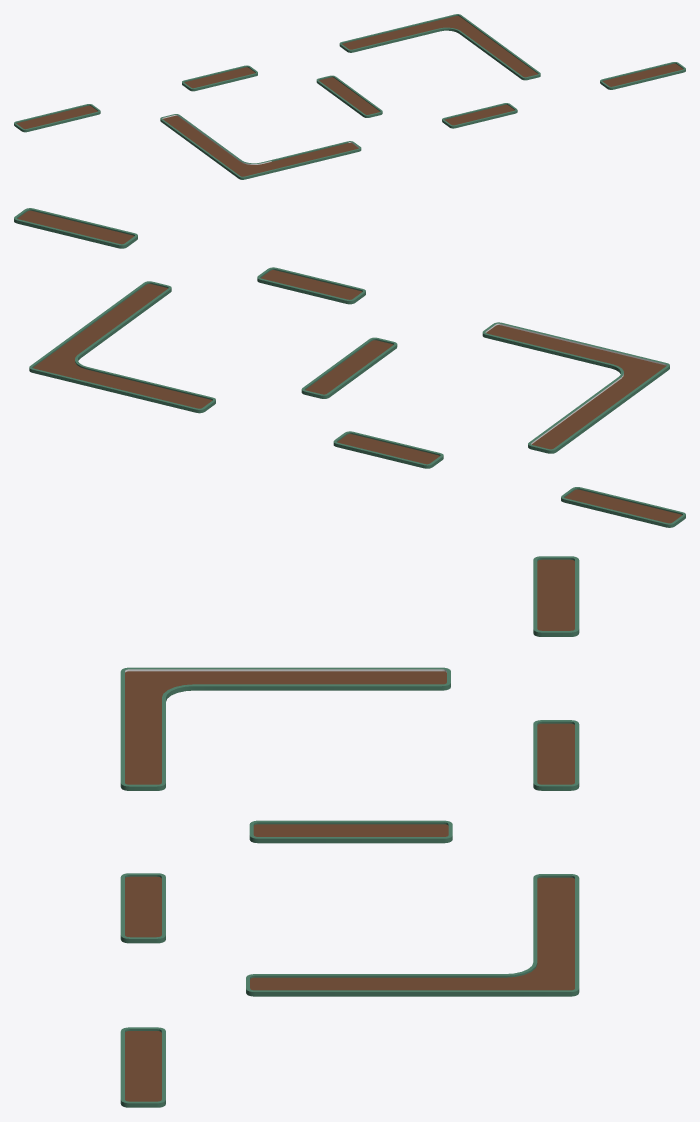
File: SPACE_TANAMAN.fbx
The picture shows the model from 3 angles, top to bottom: view 1: azimuth 30°, elevation 25°; view 2: azimuth 150°, elevation 25°; view 3: azimuth 270°, elevation 25°; orthographic projection. The views are drawn at different scales.
Visible parts, largest first — view 1: SPACE TANAMAN; view 2: SPACE TANAMAN; view 3: SPACE TANAMAN.
Part boxes in pixels (x1=…): SPACE TANAMAN: x1=14, y1=14, x2=685, y2=179; SPACE TANAMAN: x1=14, y1=208, x2=685, y2=527; SPACE TANAMAN: x1=120, y1=556, x2=579, y2=1107.
Size of the model in its own units: 24762 by 94.81 by 8766.
